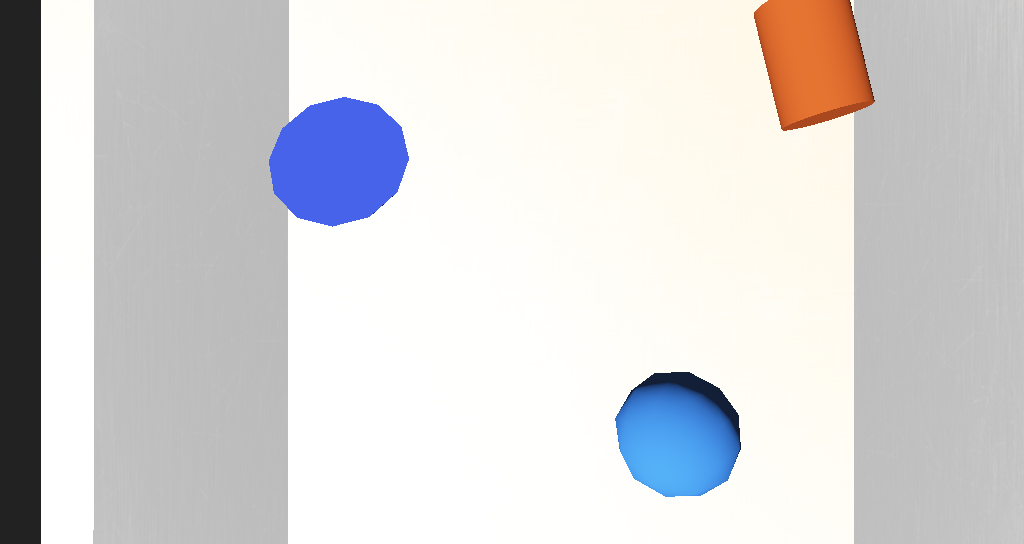cone: (593, 165, 660, 217)
cylinder: (360, 212, 435, 265)
sphere: (529, 301, 589, 348)
